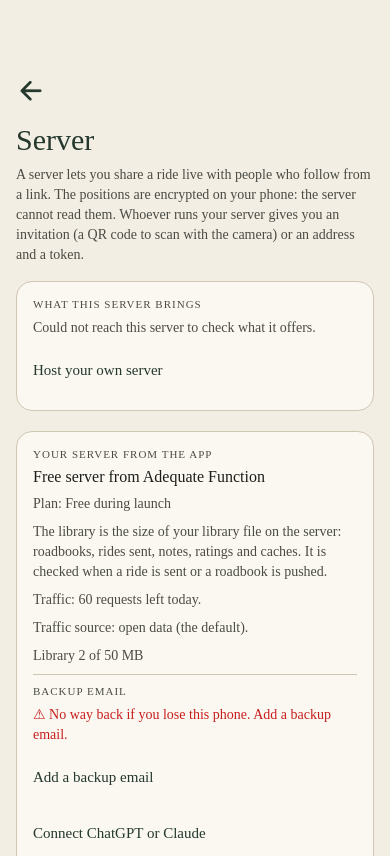
it: without a backup email there is a warning and a way to add one; a code confirms it and the address shows masked
The image size is (390, 856).
Check: the text "⚠ No way back if you lose this phone. Add a backup email." is shown, box left=33, top=705, right=357, bottom=745
Click the button labelled "Add a backup email" at (93, 777), box left=33, top=753, right=153, bottom=801
(page scrolled)
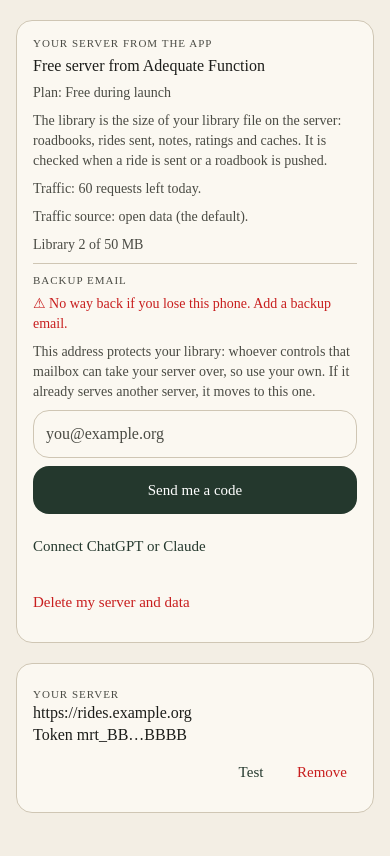
Check: the text "whoever controls that mailbox can take your server over" is shown, box left=33, top=344, right=353, bottom=399
Type "jane@proton.me" into the field named "Backup email address" at (195, 434), box left=33, top=410, right=357, bottom=458
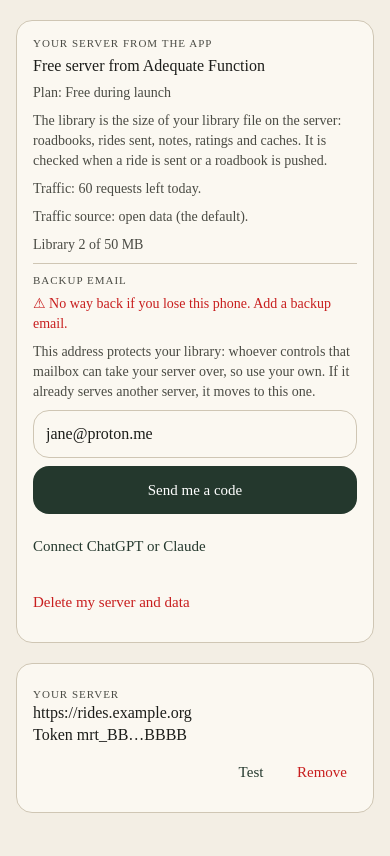
Click the button with aria-label "Send a code to this address" at (195, 490), box left=33, top=466, right=357, bottom=514
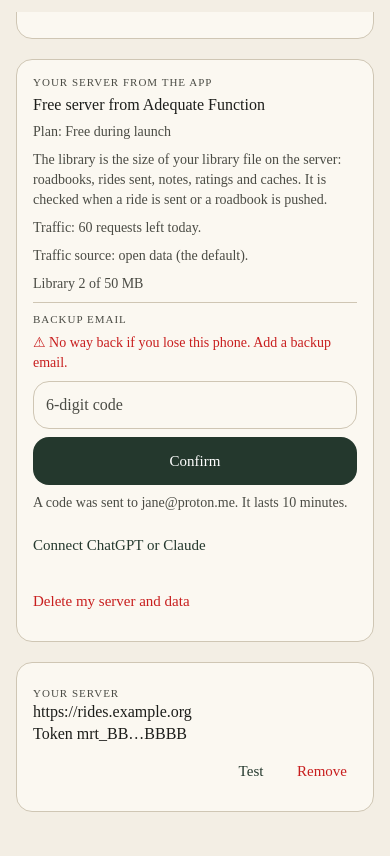
Check: the text "A code was sent to jane@proton.me. It lasts 10 minutes." is shown, box left=33, top=493, right=357, bottom=513
Type "123456" into the field named "Code from the email" at (195, 405), box left=33, top=381, right=357, bottom=429
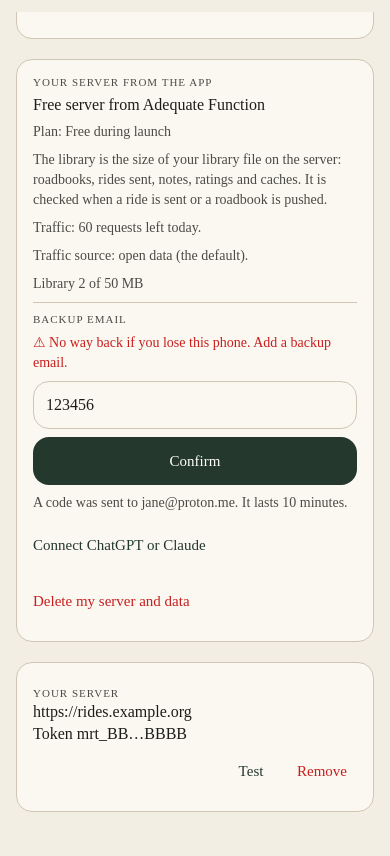
Click the button with aria-label "Confirm the code" at (195, 461), box left=33, top=437, right=357, bottom=485
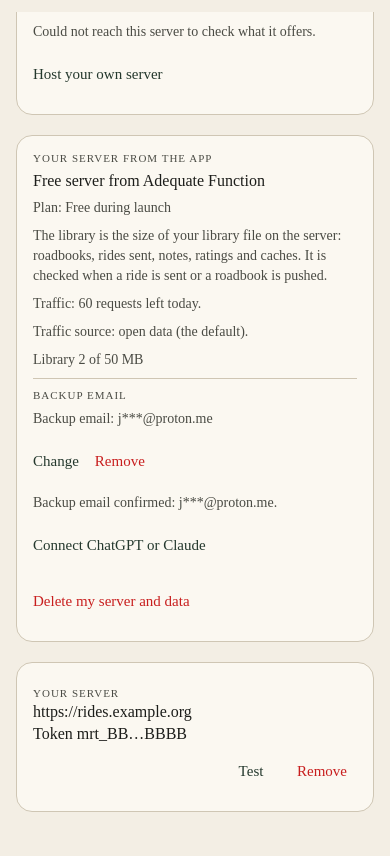
Check: the text "Backup email confirmed: j***@proton.me." is shown, box left=33, top=495, right=277, bottom=510
Check: the text "Backup email: j***@proton.me" is shown, box left=33, top=411, right=213, bottom=426
Check: the text "No way back if you lose this phone" is gone
